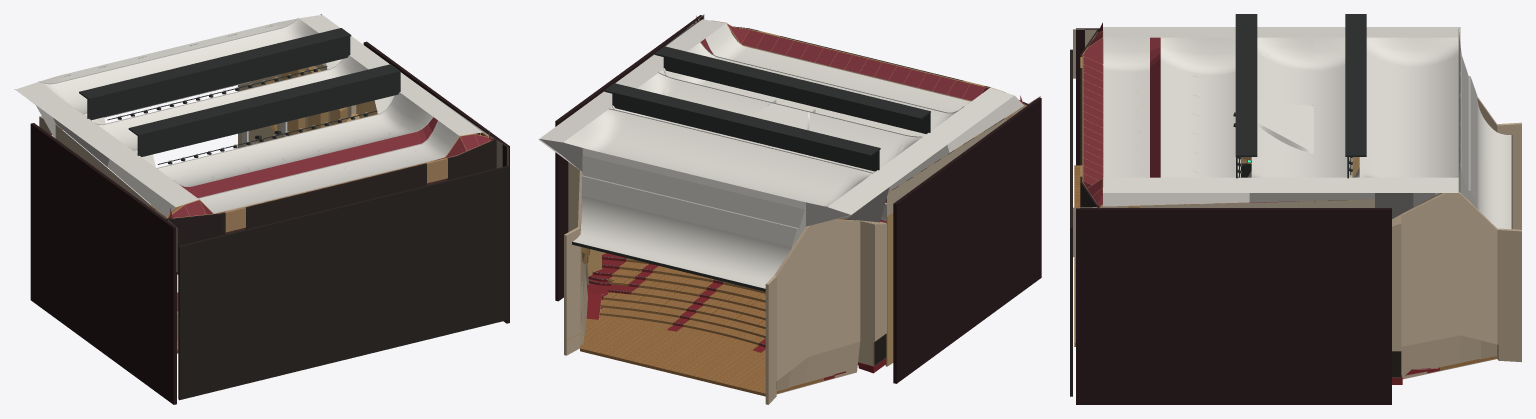
Rendered from hall.glb.
3 views of the same model, side by side, from view 1: azimuth 30°, elevation 25°; view 2: azimuth 150°, elevation 25°; view 3: azimuth 270°, elevation 25° (orthographic). The views are drawn at different scales.
Parts seen in each view (by area): view 1: hall; view 2: hall; view 3: hall.
Part boxes in pixels (<box>): hall: <box>14,14,509,404</box>; hall: <box>538,14,1041,404</box>; hall: <box>1070,14,1521,404</box>.
Bounding box in the file's own units: 29.86 × 17.64 × 31.45.
Materials: 48 (5 with a texture image).
